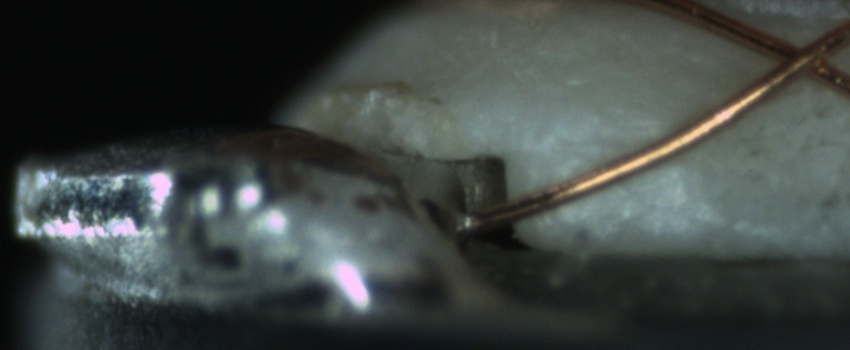CL: (756, 25, 844, 90)
